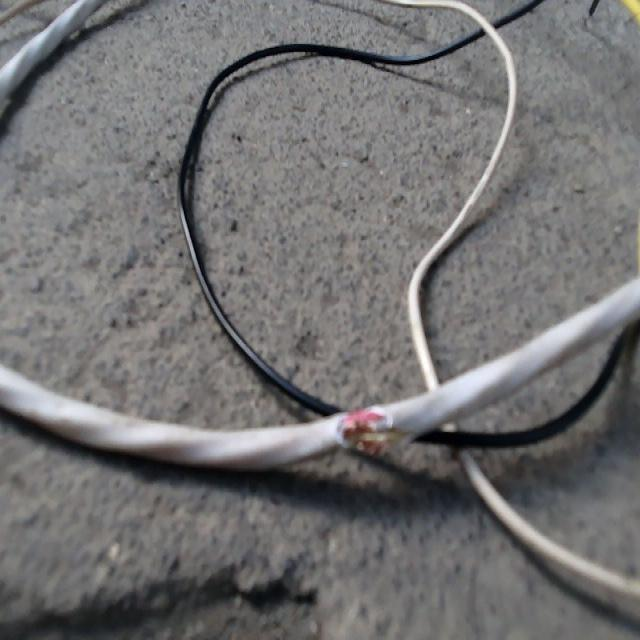-: (332, 404, 409, 452)
